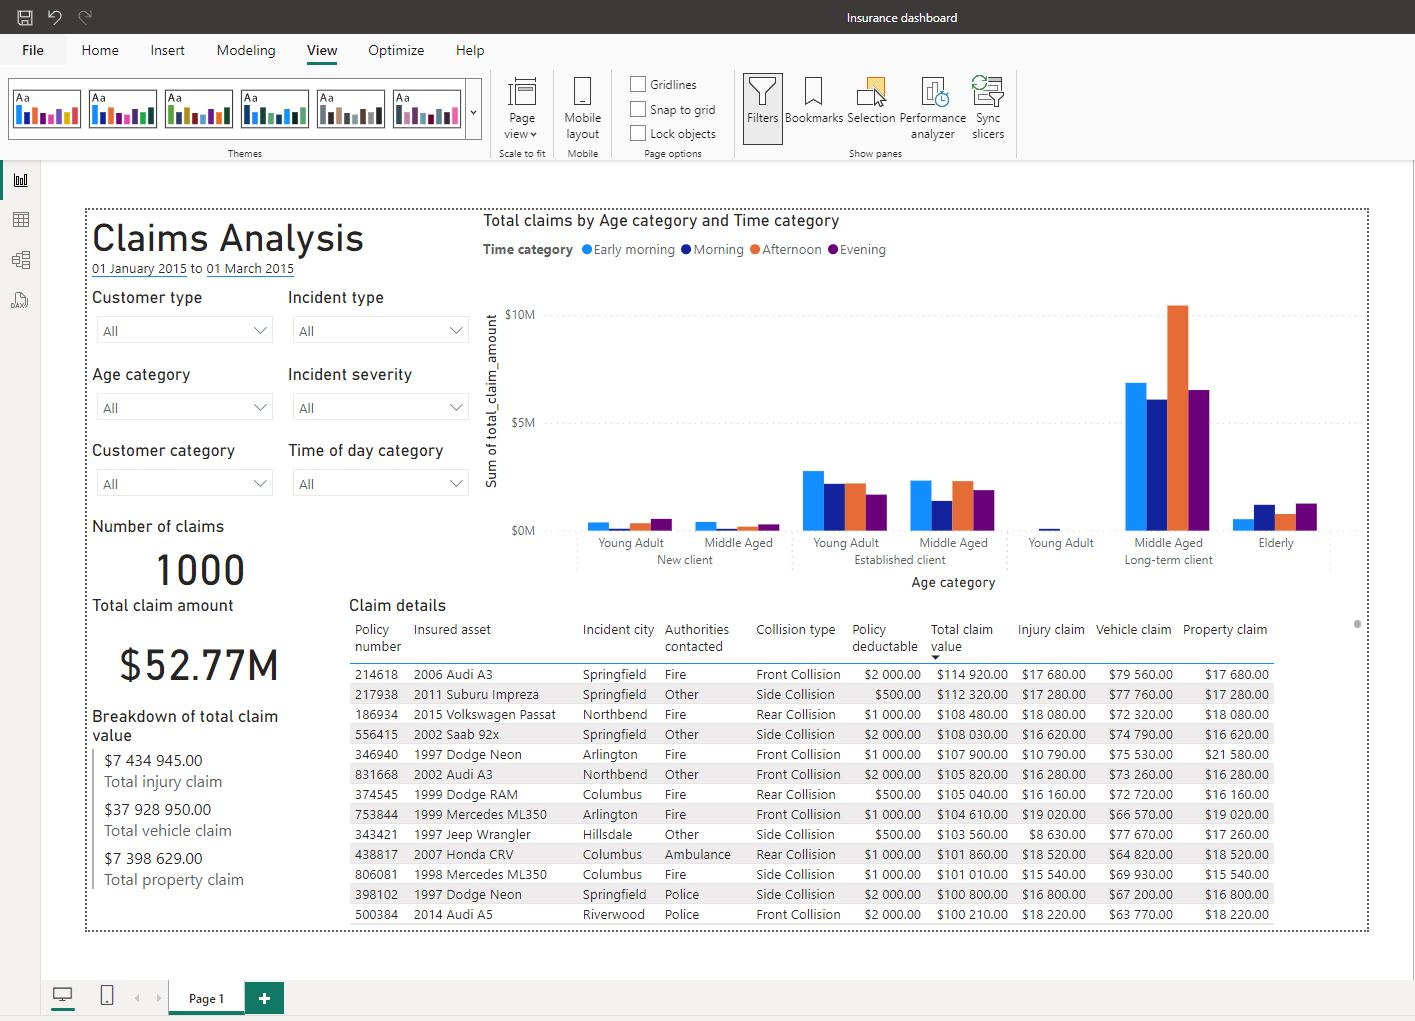

The page's visual inventory and layout, read from the dashboard file:
{"tool":"powerbi","page":{"name":"Page 1","canvas":[1280,720],"ordinal":0},"visuals":[{"type":"slicer","title":"Customer type","fields":{"Values":["Sheet1.insured_sex"]},"box":[0,76.5,195.6,76.5],"z":0,"group":"g1"},{"type":"slicer","title":"Incident type","fields":{"Values":["Sheet1.incident_type"]},"box":[195.6,76.5,195.6,76.5],"z":0,"group":"g2"},{"type":"tableEx","title":"Claim details","fields":{"Values":["Sheet1.policy_number","Sheet1.Insured asset","Sheet1.incident_city","Sheet1.authorities_contacted","Sheet1.collision_type","Sum(Sheet1.policy_deductable)","Sum(Sheet1.total_claim_amount)","Sum(Sheet1.injury_claim)","Sum(Sheet1.vehicle_claim)","Sum(Sheet1.property_claim)"]},"box":[257.3,384.9,1022.7,334.9],"z":0},{"type":"textbox","box":[0,0,648.5,91.4],"z":1000},{"type":"slicer","title":"Age category","fields":{"Values":["Age category.Age category"]},"box":[0,153,195.6,76.5],"z":1000,"group":"g1"},{"type":"slicer","title":"Time of day category","fields":{"Values":["Time category.Time category"]},"box":[195.6,229.6,195.6,76.5],"z":1000,"group":"g2"},{"type":"slicer","title":"Incident severity","fields":{"Values":["Sheet1.incident_severity"]},"box":[195.6,153,195.6,76.5],"z":2000,"group":"g2"},{"type":"card","title":"Number of claims","fields":{"Values":["CountNonNull(Sheet1.incident_type)"]},"box":[0,306.2,224.3,78.7],"z":2000},{"type":"card","title":"Total claim amount","fields":{"Values":["Sum(Sheet1.total_claim_amount)"]},"box":[0,384.9,224.3,111.6],"z":3000},{"type":"group","id":"g1","title":"Group 1","box":[0,76.5,195.6,229.6],"z":7000},{"type":"group","id":"g2","title":"Group 2","box":[195.6,76.5,195.6,229.6],"z":8000},{"type":"multiRowCard","title":"Breakdown of total claim value","fields":{"Values":["Sum(Sheet1.injury_claim)","Sum(Sheet1.vehicle_claim)","Sum(Sheet1.property_claim)"]},"box":[0,496.5,224.3,223.3],"z":8005},{"type":"clusteredColumnChart","title":"Total claims by Age category and Time category","fields":{"Category":["Customer category.Customer category","Age category.Age category"],"Y":["Sum(Sheet1.total_claim_amount)"],"Series":["Time category.Time category"]},"box":[391.2,0,888.8,384.9],"z":8006},{"type":"slicer","title":"Customer category","fields":{"Values":["Customer category.Client"]},"box":[0,229.6,195.6,76.5],"z":12002,"group":"g1"}]}

Visuals, with their boxes on the page's 1280x720 design canvas (x1, y1, x2, y2). These are canvas units, not pixel positions in the 1415x1021 screenshot, which may show the page scaled, cropped or inside an application window:
"Customer type" slicer: Rect(0, 76, 196, 153)
"Incident type" slicer: Rect(196, 76, 391, 153)
"Claim details" tableEx: Rect(257, 385, 1280, 720)
textbox: Rect(0, 0, 648, 91)
"Age category" slicer: Rect(0, 153, 196, 230)
"Time of day category" slicer: Rect(196, 230, 391, 306)
"Incident severity" slicer: Rect(196, 153, 391, 230)
"Number of claims" card: Rect(0, 306, 224, 385)
"Total claim amount" card: Rect(0, 385, 224, 496)
"Group 1" group: Rect(0, 76, 196, 306)
"Group 2" group: Rect(196, 76, 391, 306)
"Breakdown of total claim value" multiRowCard: Rect(0, 496, 224, 720)
"Total claims by Age category and Time category" clusteredColumnChart: Rect(391, 0, 1280, 385)
"Customer category" slicer: Rect(0, 230, 196, 306)
